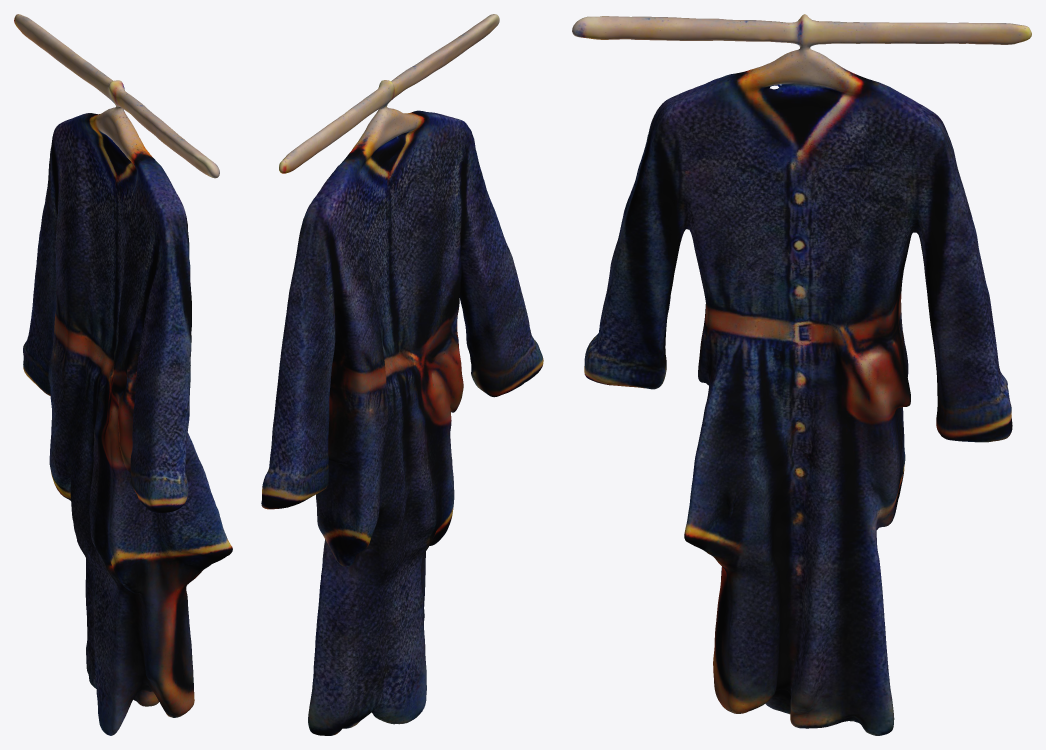
Rendered from hanging_coat.fbx.
3 renders of one model, left to right at view 1: azimuth 30°, elevation 25°; view 2: azimuth 150°, elevation 25°; view 3: azimuth 270°, elevation 25°, orthographic. The views are drawn at different scales.
Visible parts, largest first — view 1: high_poly; view 2: high_poly; view 3: high_poly.
Boxes of the visible parts, x1=… form: high_poly: x1=14, y1=14, x2=232, y2=735; high_poly: x1=261, y1=14, x2=543, y2=735; high_poly: x1=572, y1=14, x2=1031, y2=735.
Size of the model in its own units: 20.25 by 100 by 58.92.
